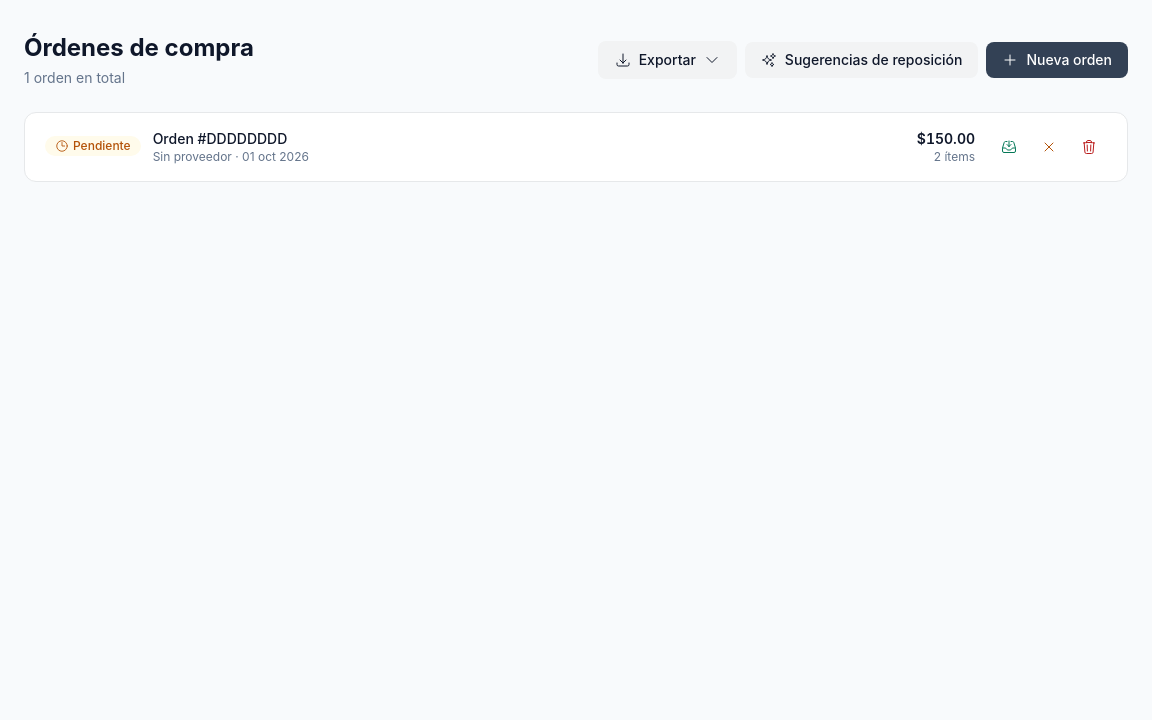
Test: recibir una compra › solo la línea del producto con lotes pide caducidad, y sin ella no se puede confirmar
Click the button named "Recibir mercancía de la orden #DDDDDDDD" at x=1009, y=147, box [991,129,1027,165]
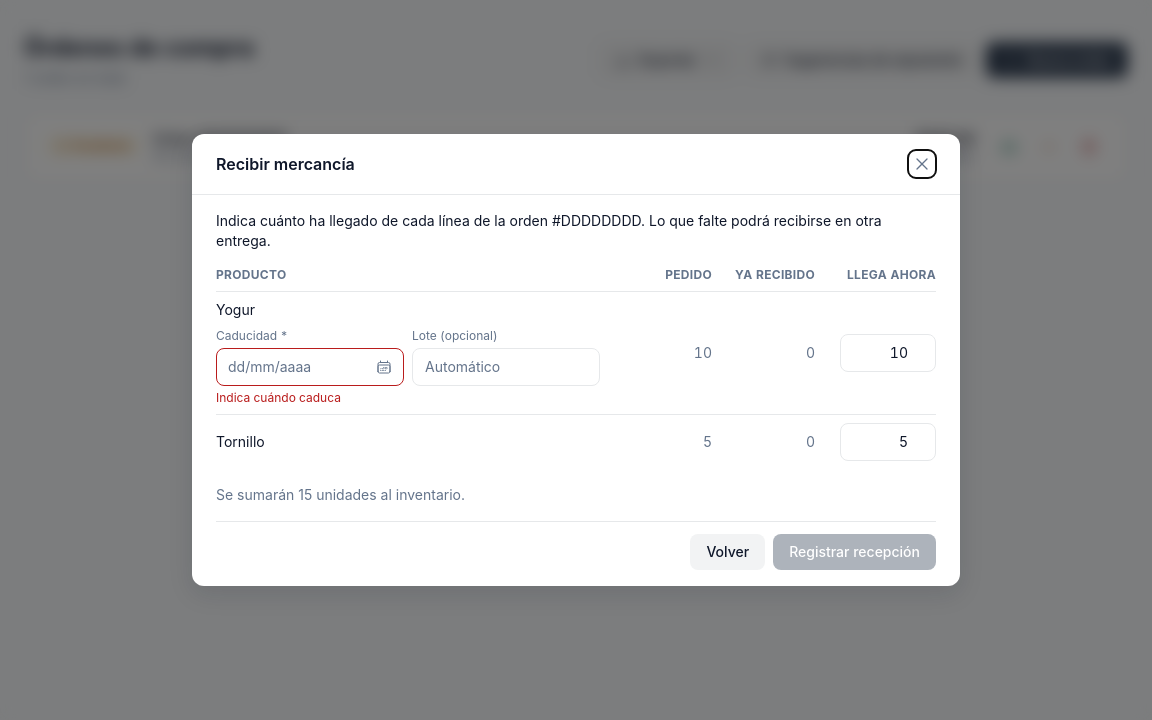
Check: the date field named "Caducidad de Yogur" is shown, box [216,348,404,386]
Check: the text "Indica cuándo caduca" is shown, box [216,390,341,405]
Check: the button "Registrar recepción" is disabled, box [773,534,936,570]
